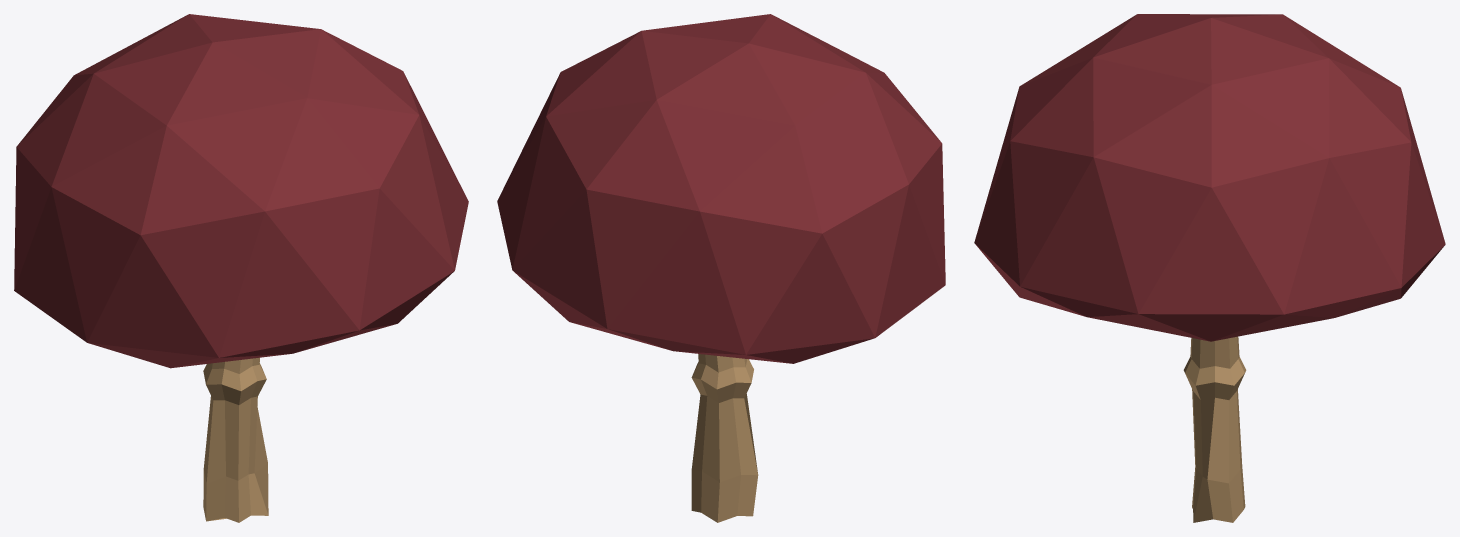
File: mushroom3.fbx
The picture shows the model from 3 angles, left to right: view 1: azimuth 30°, elevation 25°; view 2: azimuth 150°, elevation 25°; view 3: azimuth 270°, elevation 25°; orthographic projection. The views are drawn at different scales.
Parts seen in each view (by area): view 1: Mushroom_3; view 2: Mushroom_3; view 3: Mushroom_3.
Boxes of the visible parts, left/top/right/bottom form: Mushroom_3: left=14, top=14, right=468, bottom=522; Mushroom_3: left=497, top=14, right=945, bottom=522; Mushroom_3: left=974, top=14, right=1445, bottom=522.
Bounding box in the file's own units: 26.17 × 31.19 × 27.66.
